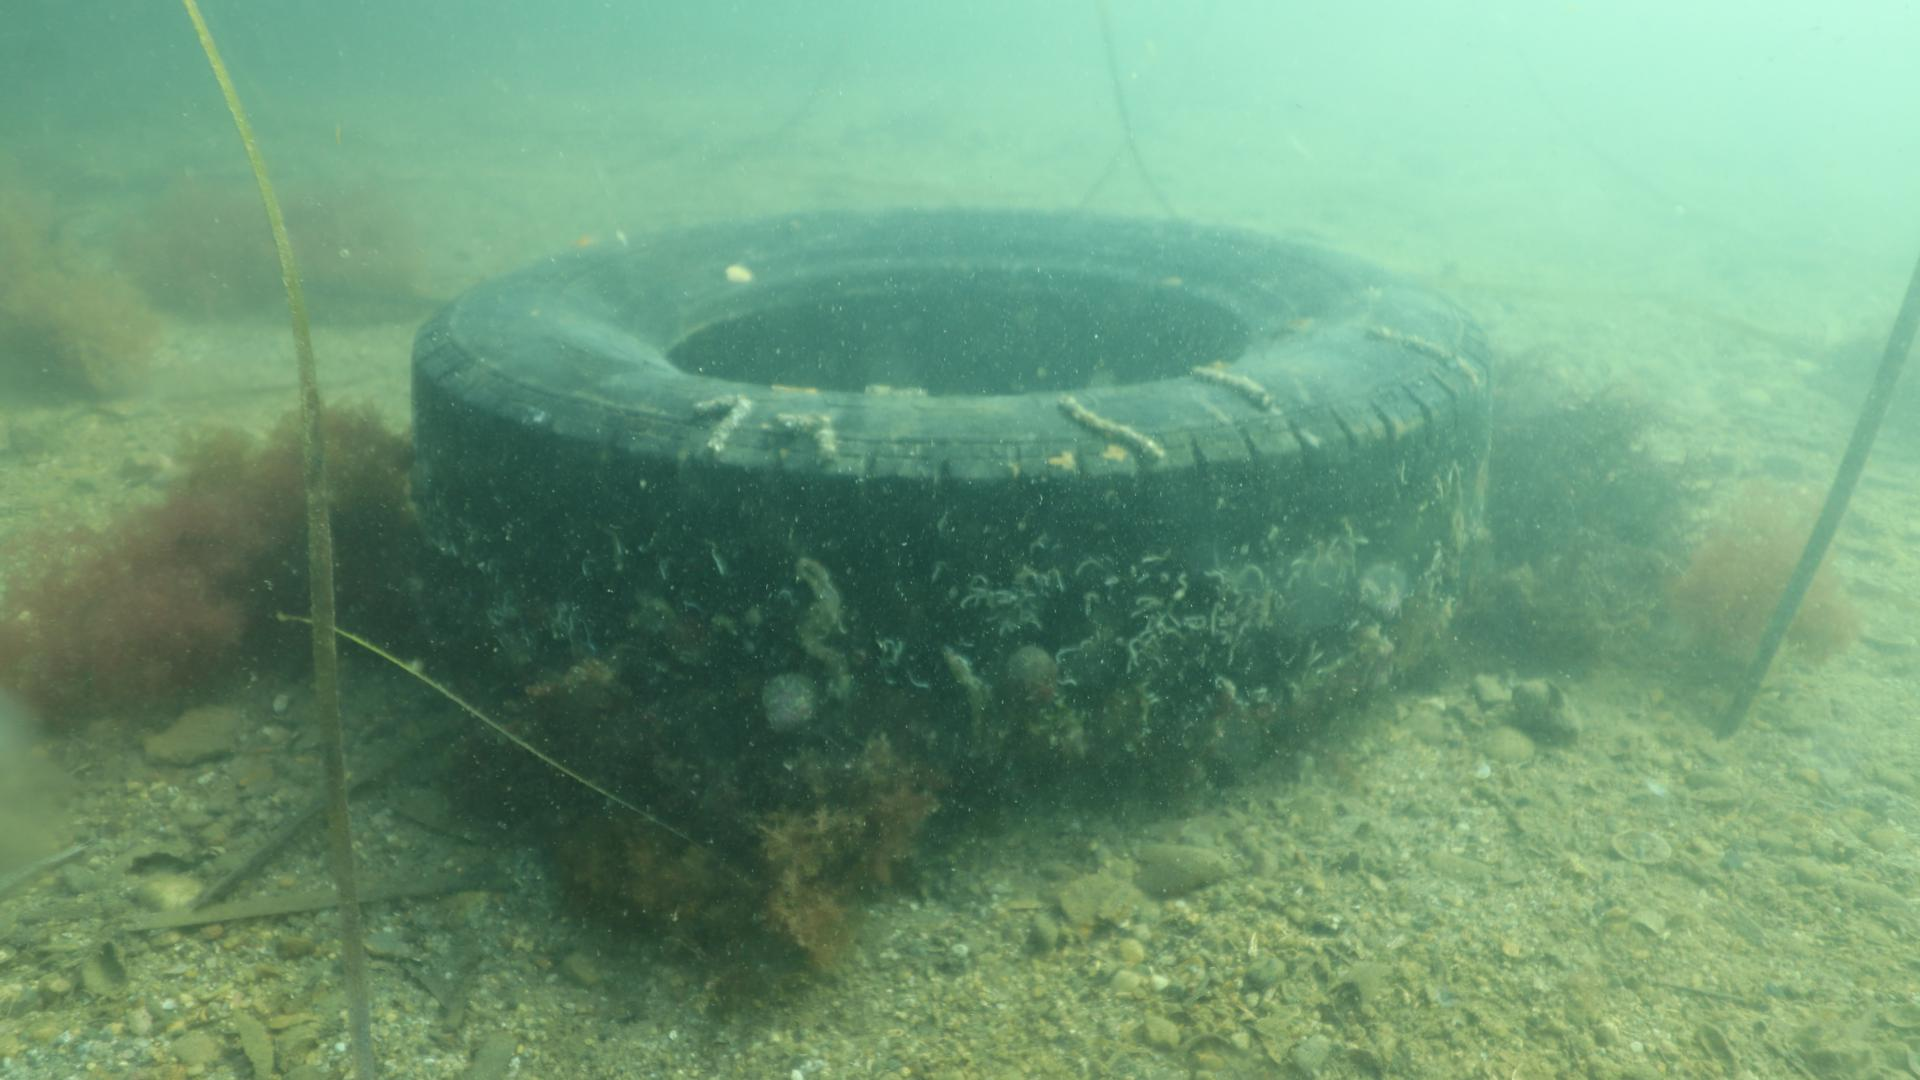tire: (410, 207, 1495, 803)
